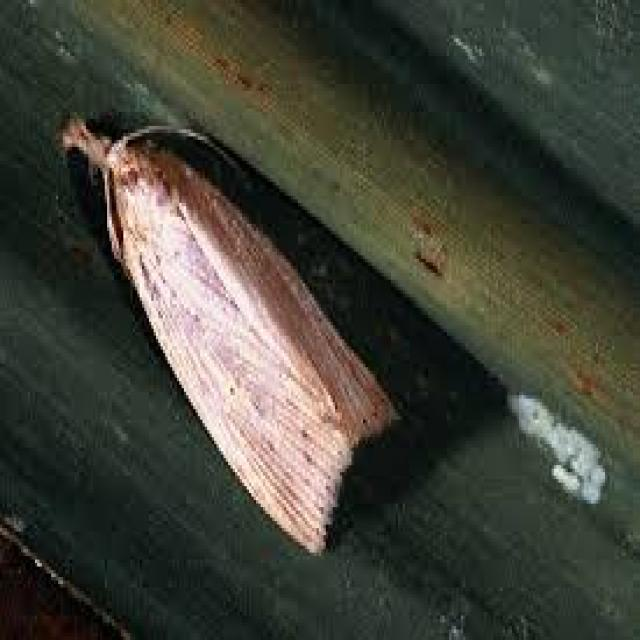yellow-stem-borer: (40, 81, 425, 577)
